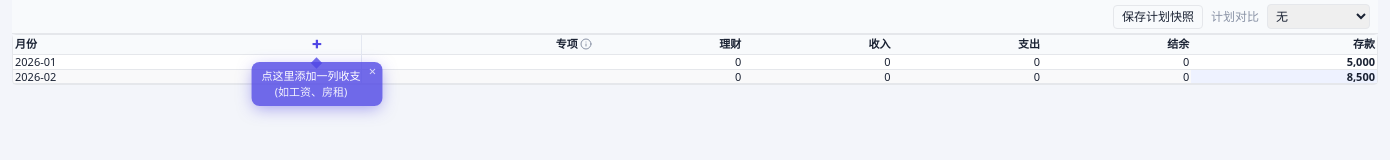
Test case: MonthlyTable › 选中快照后显示「快照预计」「快照偏差」两列并按规则计算
Select "2026-01 计划" in the dropdown named "选择对比快照" at (1318, 16), box 1267,4 -> 1370,29
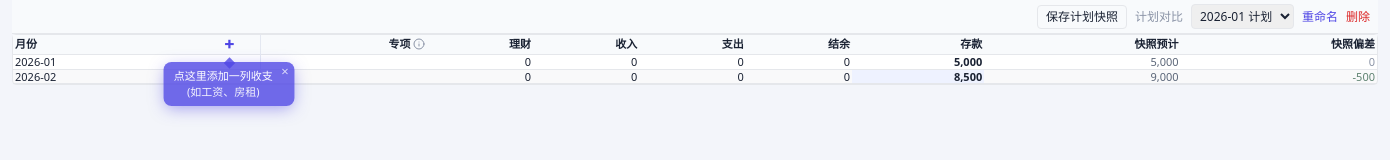
Check: the column heading "快照预计" is shown, box 984,35 -> 1181,54
Check: the column heading "快照偏差" is shown, box 1181,35 -> 1377,54
Check: the table shows "9,000", box 1150,68 -> 1179,84
